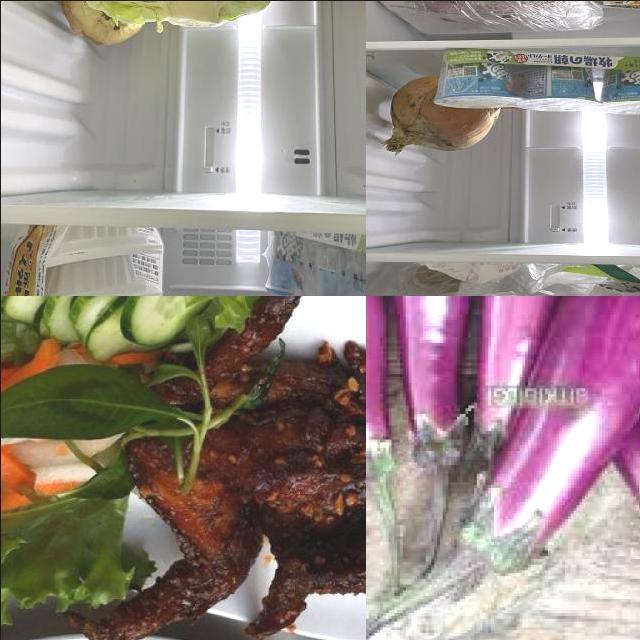cucumber: (29, 296, 127, 356), (124, 296, 217, 340)
eggplant: (475, 296, 640, 571), (474, 296, 616, 457), (398, 296, 523, 460)
onion: (386, 77, 490, 156), (56, 1, 149, 53)
